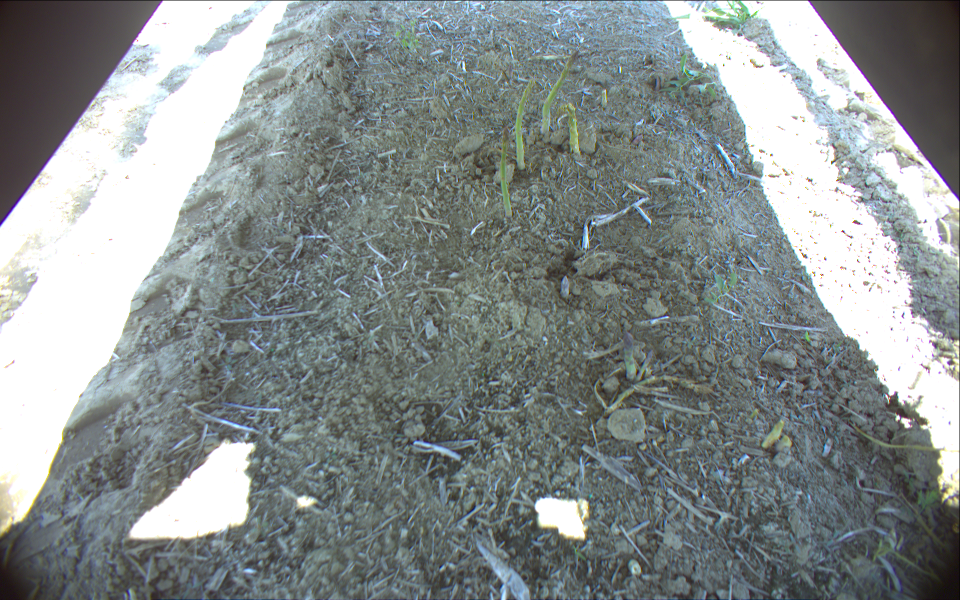aspa: (541, 48, 580, 135), (514, 76, 534, 172), (500, 119, 513, 220), (623, 327, 636, 379), (567, 102, 578, 155), (764, 420, 784, 448), (639, 351, 654, 381), (560, 276, 570, 300), (601, 88, 608, 109)
